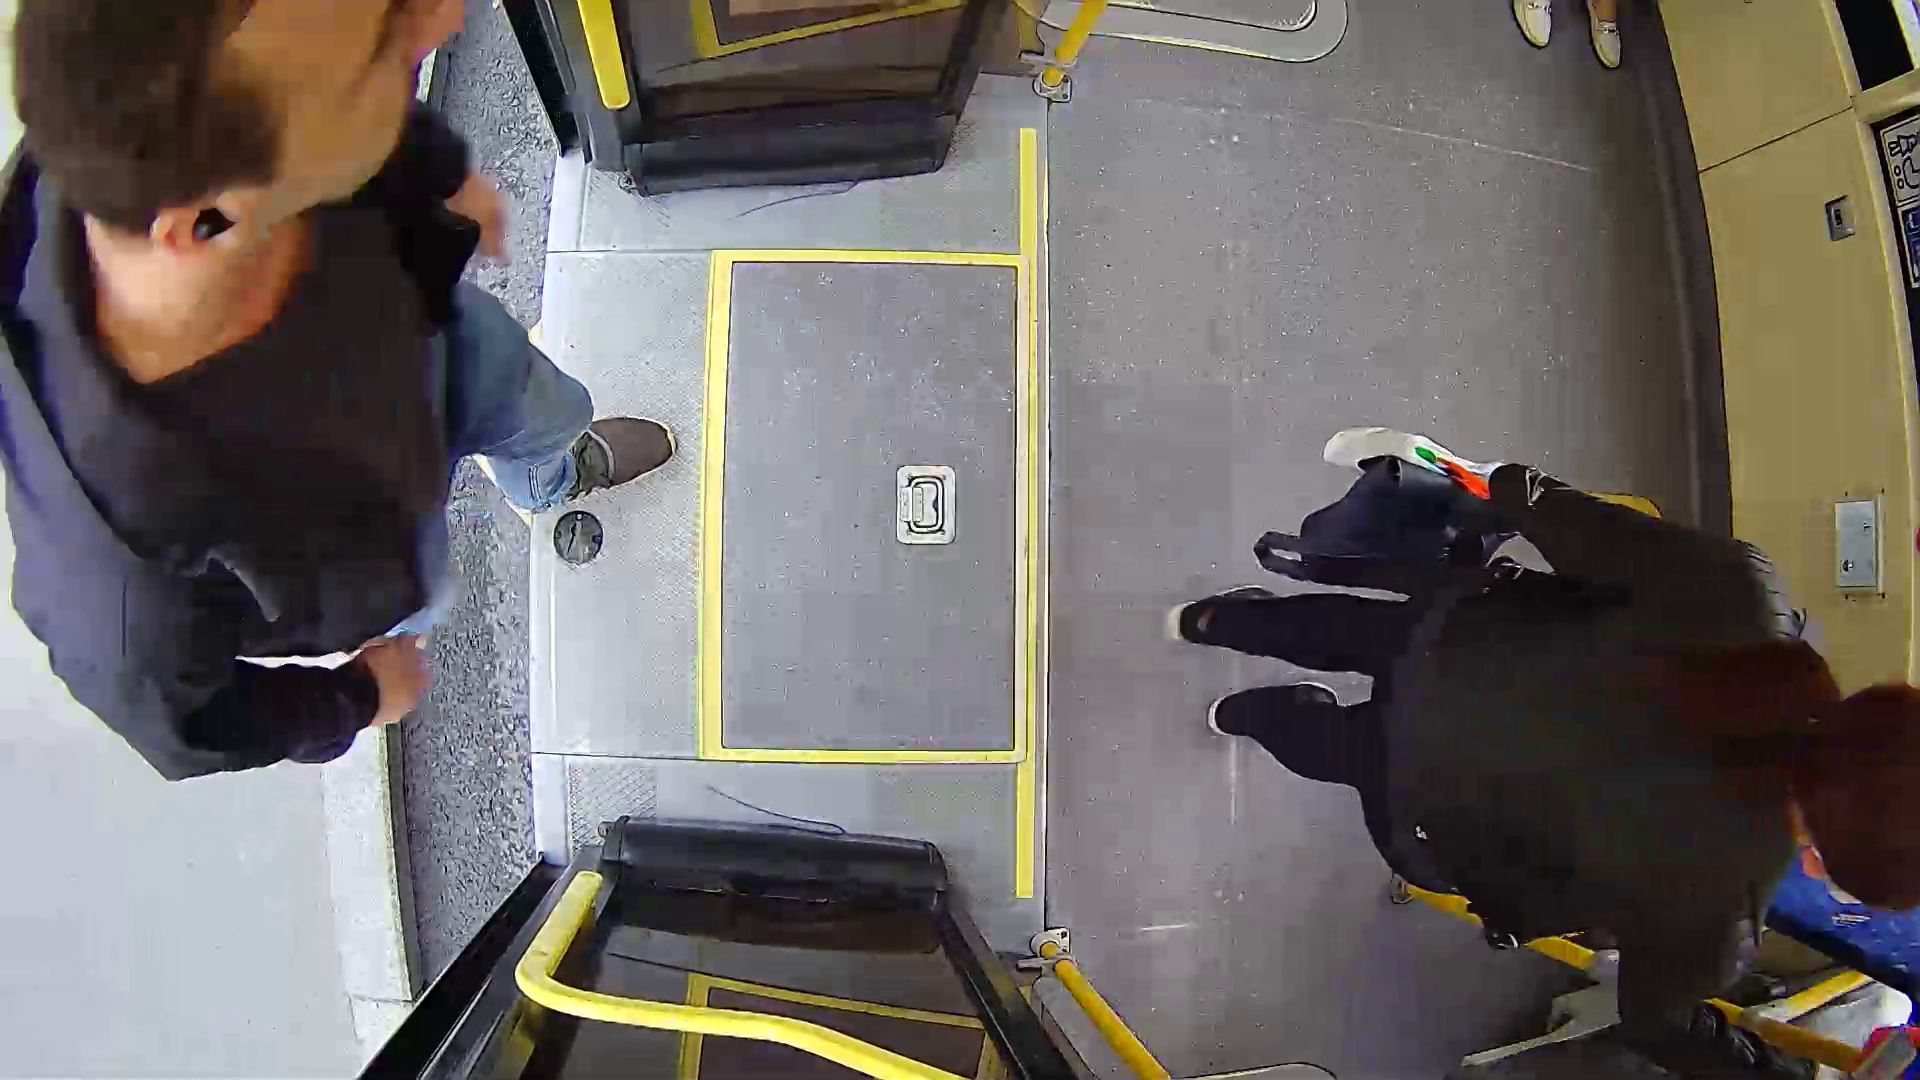person: (14, 15, 800, 718), (1159, 417, 1920, 1051)
